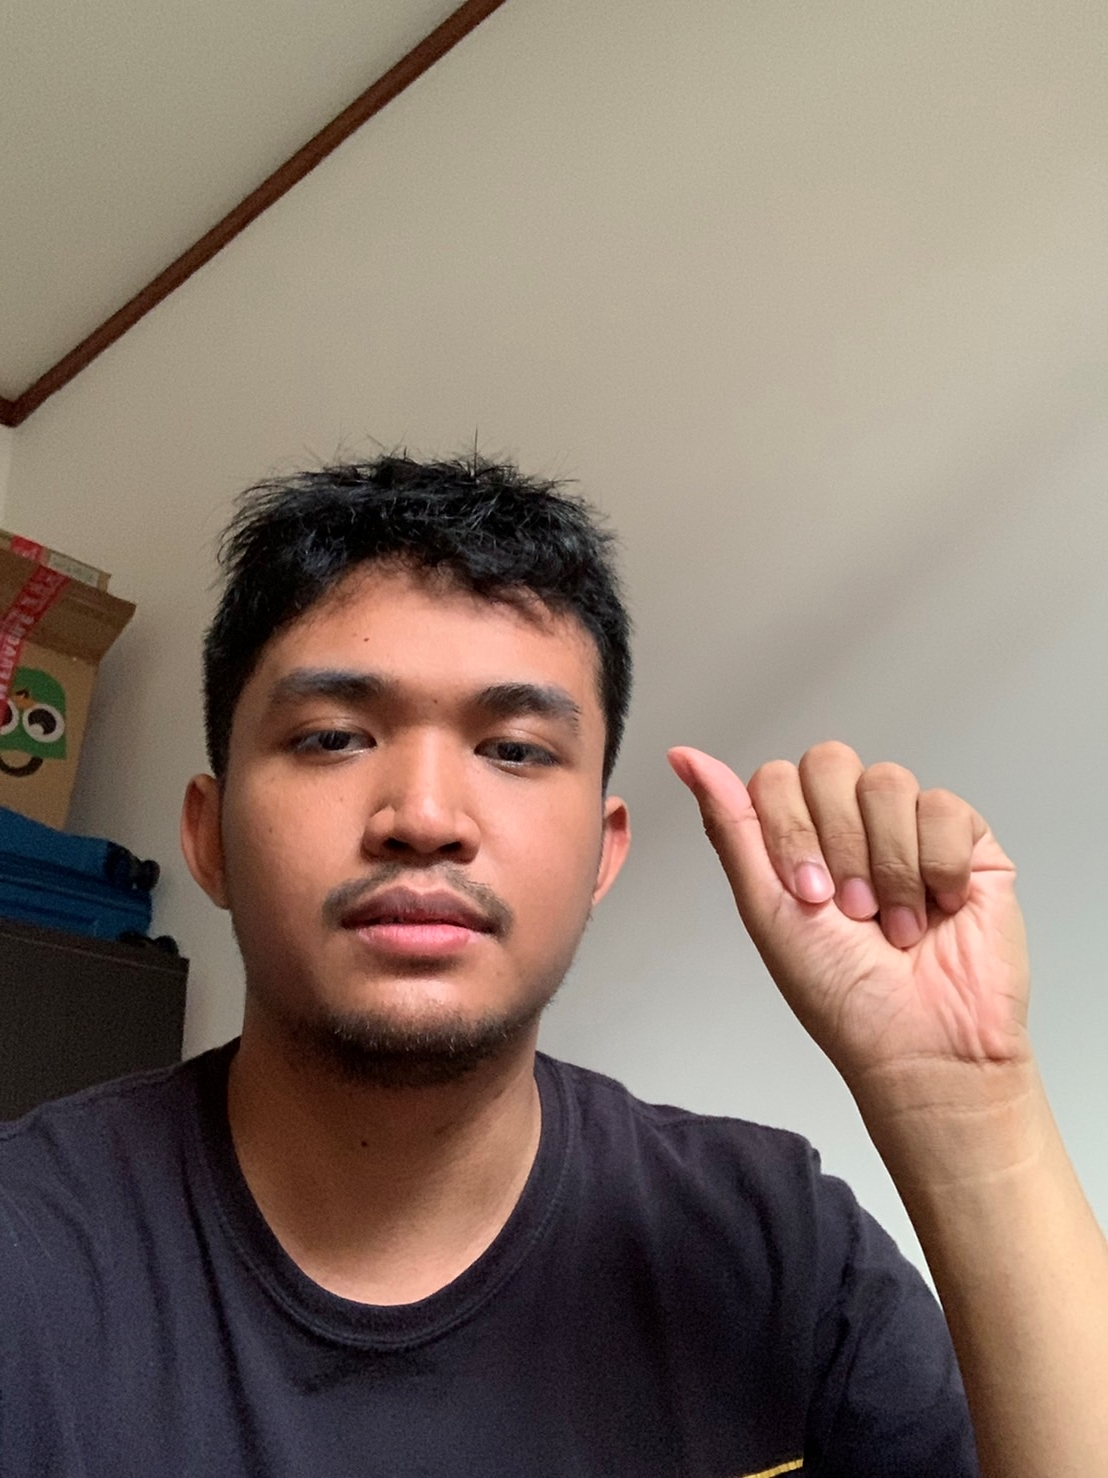A: (655, 734, 1070, 1089)
